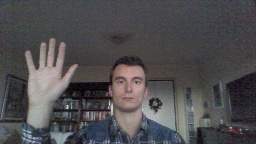Mano_aperta: (23, 36, 79, 110)
